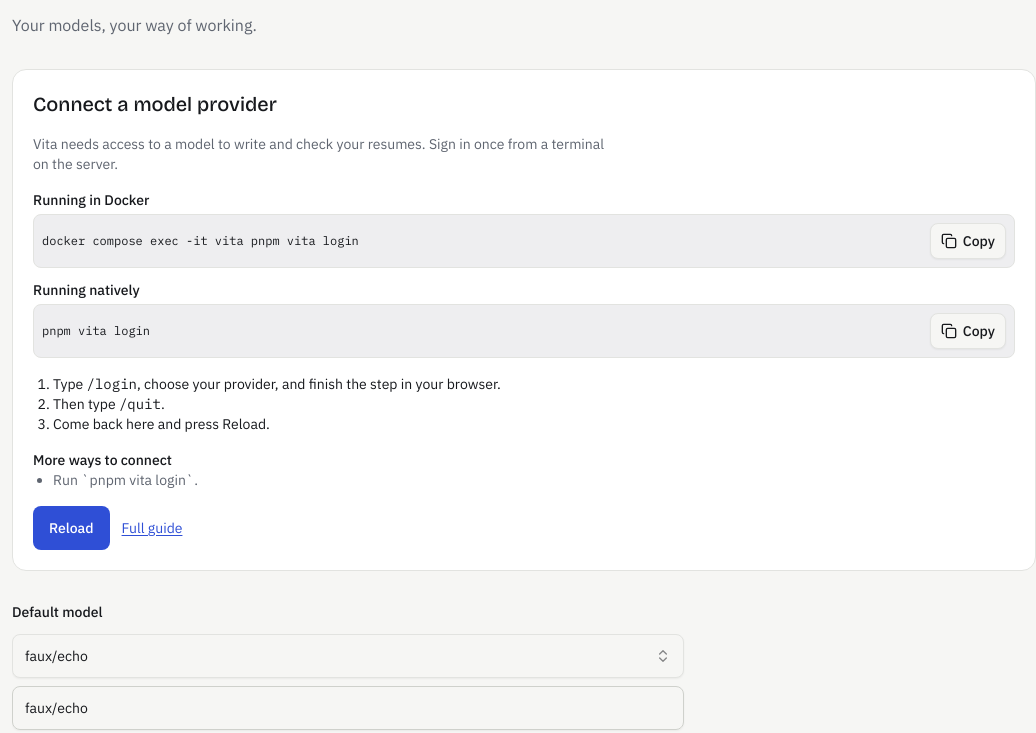
Test: rejects malformed model IDs before sending them
Replace the text in the field named "Default model model ID" with "missing-provider": coordinates (348, 708) [12,686,684,730]
(page scrolled)
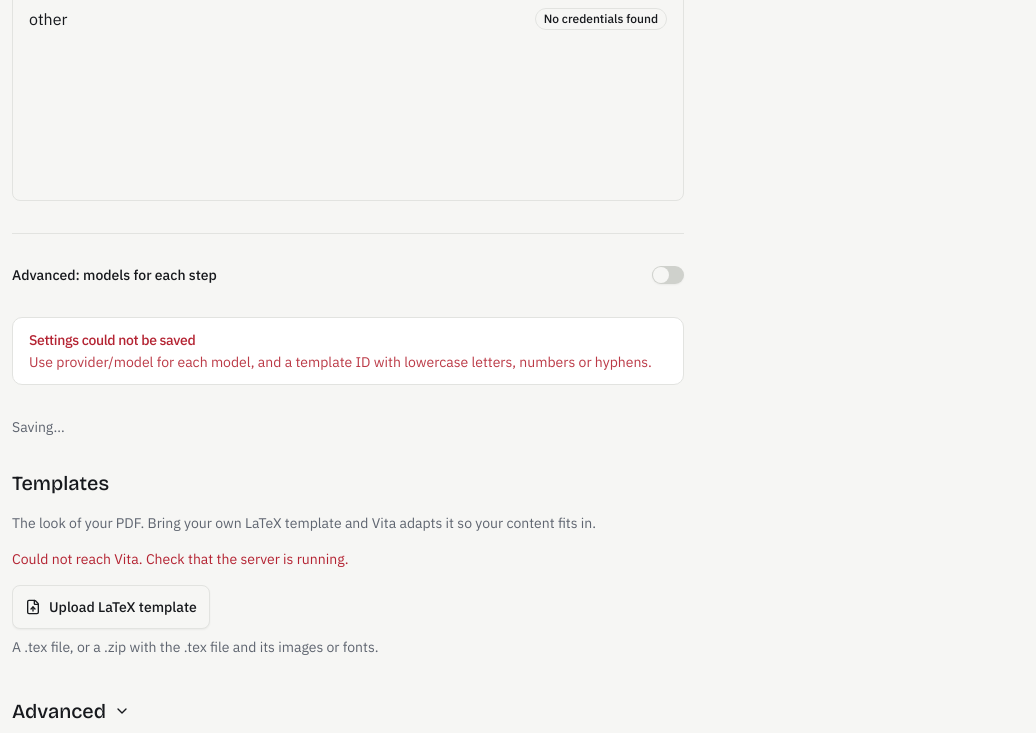
Expected: the text "Use provider/model for each model" is shown, [29,353,652,371]
